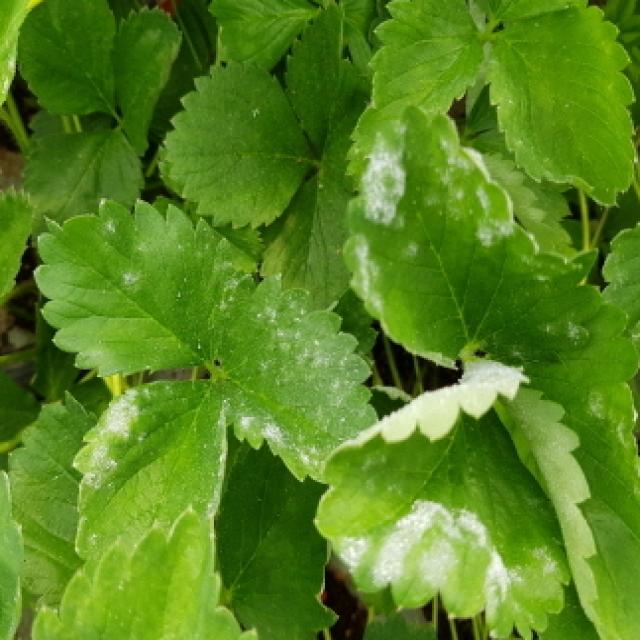Powdery Mildew Leaf: (311, 357, 575, 640), (341, 100, 605, 368), (32, 196, 240, 380), (212, 271, 381, 487), (501, 385, 640, 640), (73, 374, 228, 579)
